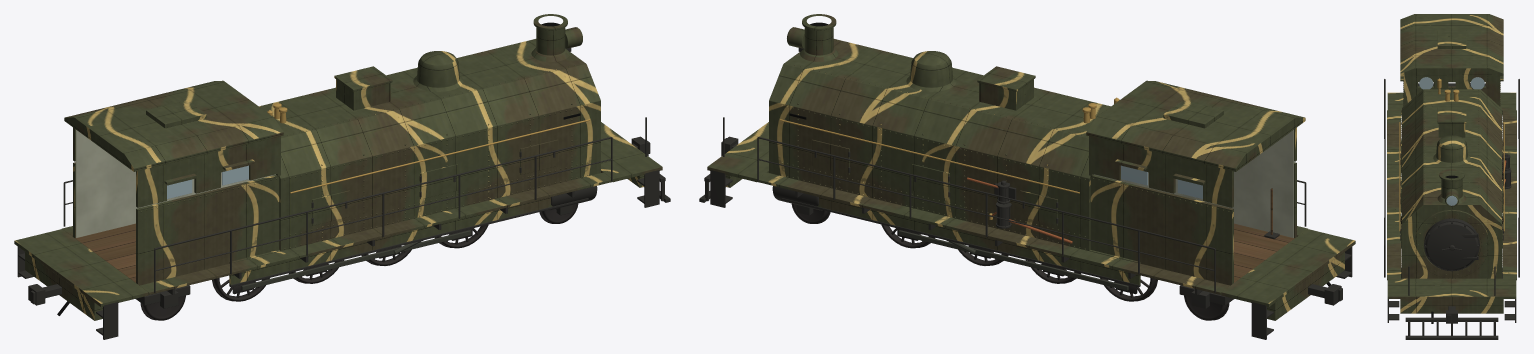
The model's file is locomotive.glb.
3 renders of one model, left to right at view 1: azimuth 30°, elevation 25°; view 2: azimuth 150°, elevation 25°; view 3: azimuth 270°, elevation 25°, orthographic. The views are drawn at different scales.
Visible parts, largest first — view 1: BoilerCasing, Cab, Walkways, Frame, Rivets, Wheelset_1, Wheelset_6; view 2: BoilerCasing, Cab, Walkways, Frame, Rivets, Wheelset_1, Wheelset_6; view 3: BoilerCasing, Walkways, Cab, Frame, Rivets.
Part boxes in pixels (x1=…): BoilerCasing: x1=259, y1=14, x2=600, y2=251; Cab: x1=64, y1=80, x2=283, y2=285; Walkways: x1=14, y1=117, x2=662, y2=339; Frame: x1=25, y1=136, x2=670, y2=320; Rivets: x1=140, y1=40, x2=588, y2=249; Wheelset_1: x1=212, y1=278, x2=269, y2=301; Wheelset_6: x1=140, y1=295, x2=185, y2=320; BoilerCasing: x1=769, y1=14, x2=1119, y2=250; Cab: x1=1086, y1=80, x2=1305, y2=285; Walkways: x1=707, y1=117, x2=1355, y2=339; Frame: x1=699, y1=136, x2=1344, y2=320; Rivets: x1=781, y1=40, x2=1229, y2=249; Wheelset_1: x1=1100, y1=278, x2=1157, y2=301; Wheelset_6: x1=1184, y1=295, x2=1229, y2=320; BoilerCasing: x1=1400, y1=78, x2=1511, y2=278; Walkways: x1=1384, y1=79, x2=1519, y2=322; Cab: x1=1400, y1=14, x2=1503, y2=106; Frame: x1=1400, y1=113, x2=1503, y2=339; Rivets: x1=1401, y1=81, x2=1502, y2=272.
Bounding box in the file's own units: 14.82 × 4.34 × 3.8.
Materials: 14 (3 with a texture image).
